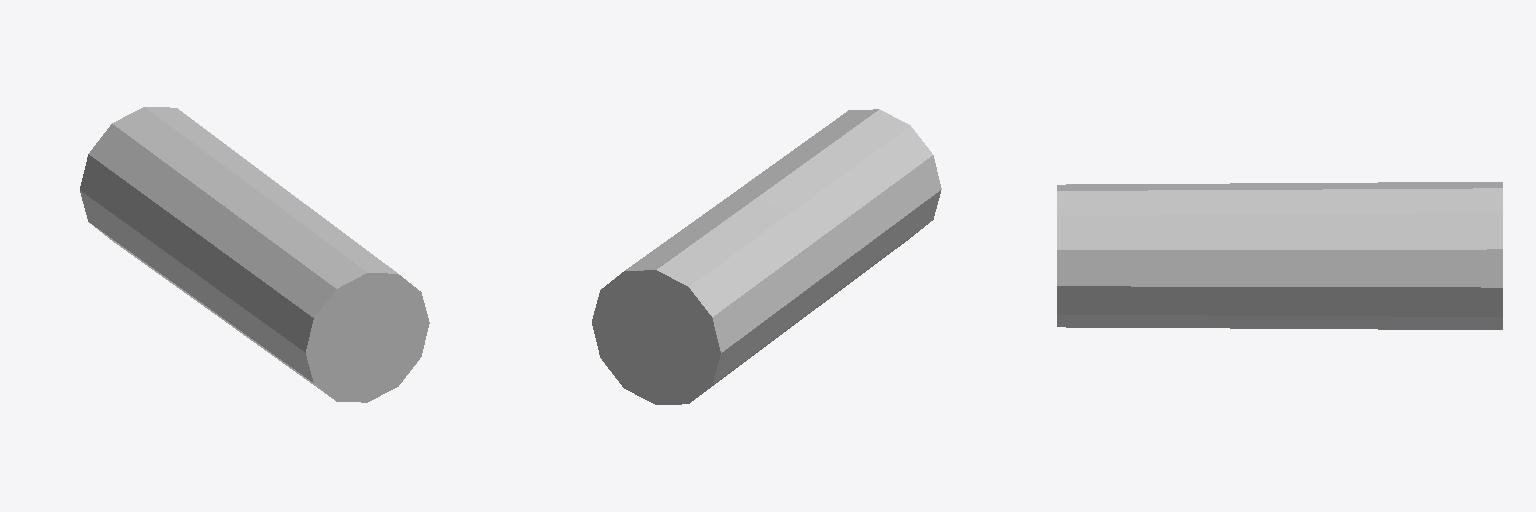
Rendered from body_link1.obj.
3 renders of one model, left to right at view 1: azimuth 30°, elevation 25°; view 2: azimuth 150°, elevation 25°; view 3: azimuth 270°, elevation 25°, orthographic.
Parts seen in each view (by area): view 1: body_link1_Cylinder.039; view 2: body_link1_Cylinder.039; view 3: body_link1_Cylinder.039.
Boxes of the visible parts, x1=… form: body_link1_Cylinder.039: x1=80, y1=107, x2=429, y2=402; body_link1_Cylinder.039: x1=592, y1=109, x2=941, y2=404; body_link1_Cylinder.039: x1=1057, y1=182, x2=1502, y2=329.
Size of the model in its own units: 0.075 by 0.075 by 0.2243.